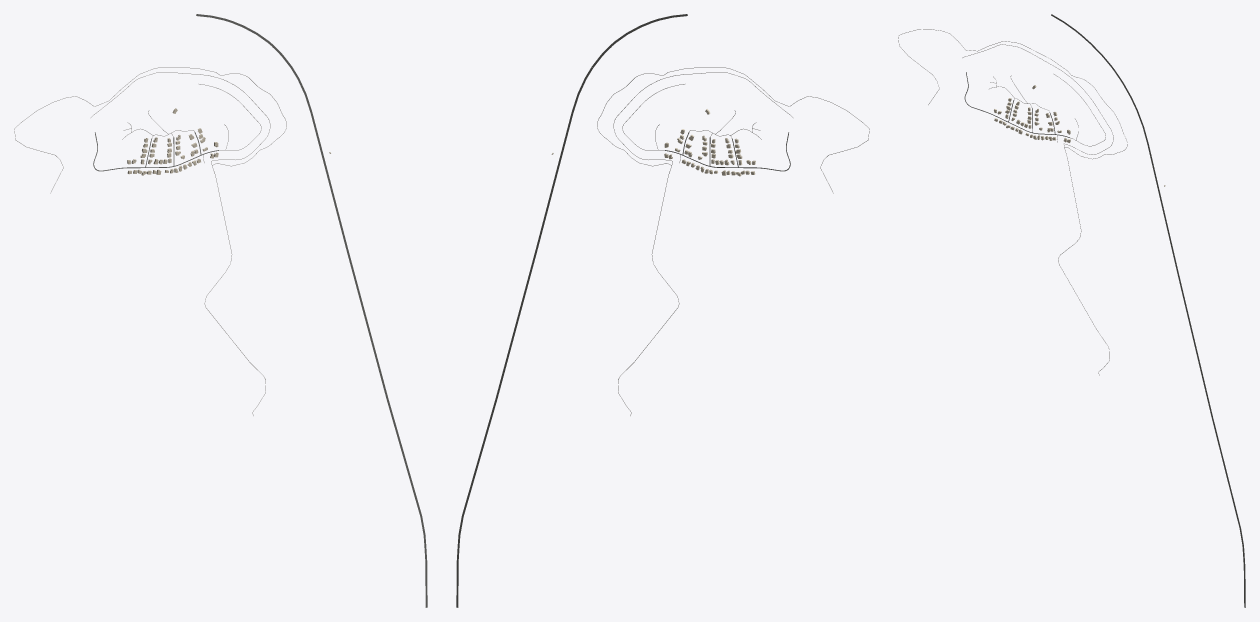
File: historic-palestine-07_21_3493_3152.glb
3 renders of one model, left to right at view 1: azimuth 30°, elevation 25°; view 2: azimuth 150°, elevation 25°; view 3: azimuth 330°, elevation 25°, orthographic. The views are drawn at different scales.
Visible parts, largest first — view 1: Road 358; view 2: Road 358; view 3: Road 358.
Boxes of the visible parts, x1,y1,x2,y2 form: Road 358: (196,14,427,607); Road 358: (456,14,687,607); Road 358: (1051,14,1245,607).
Size of the model in its own units: 1742 by 2618 by 8.7.
